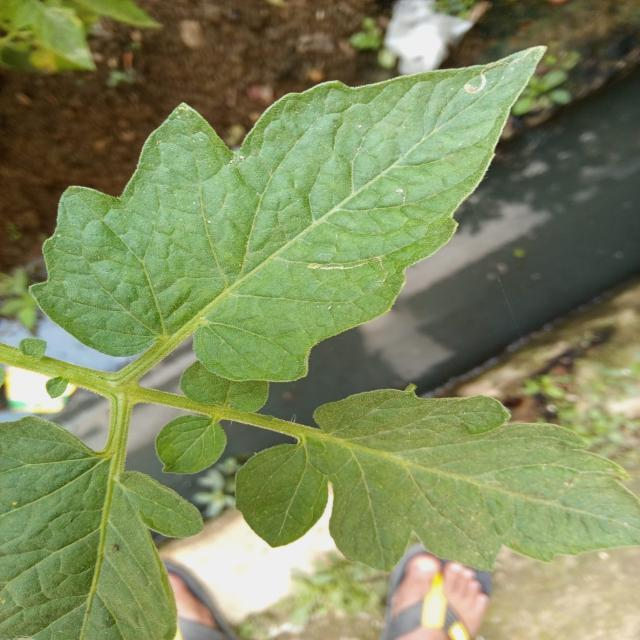Tuta absoluta: (462, 73, 490, 98), (308, 263, 366, 271)
